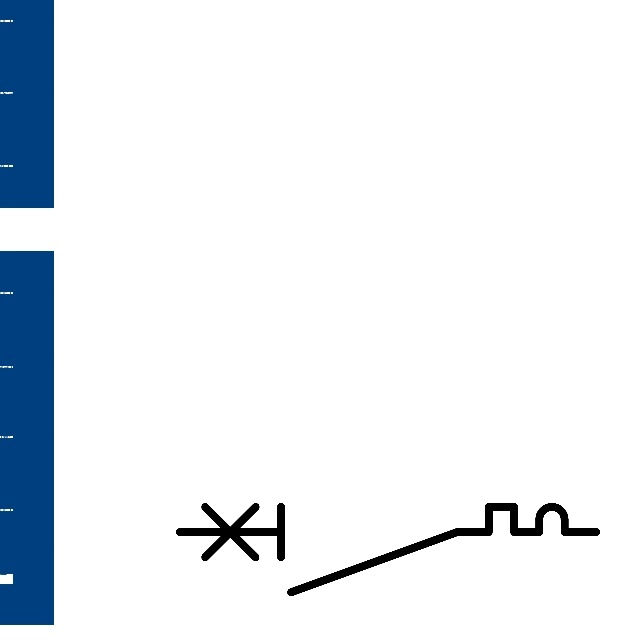interruptor_termomagnetico: (169, 496, 607, 603)
